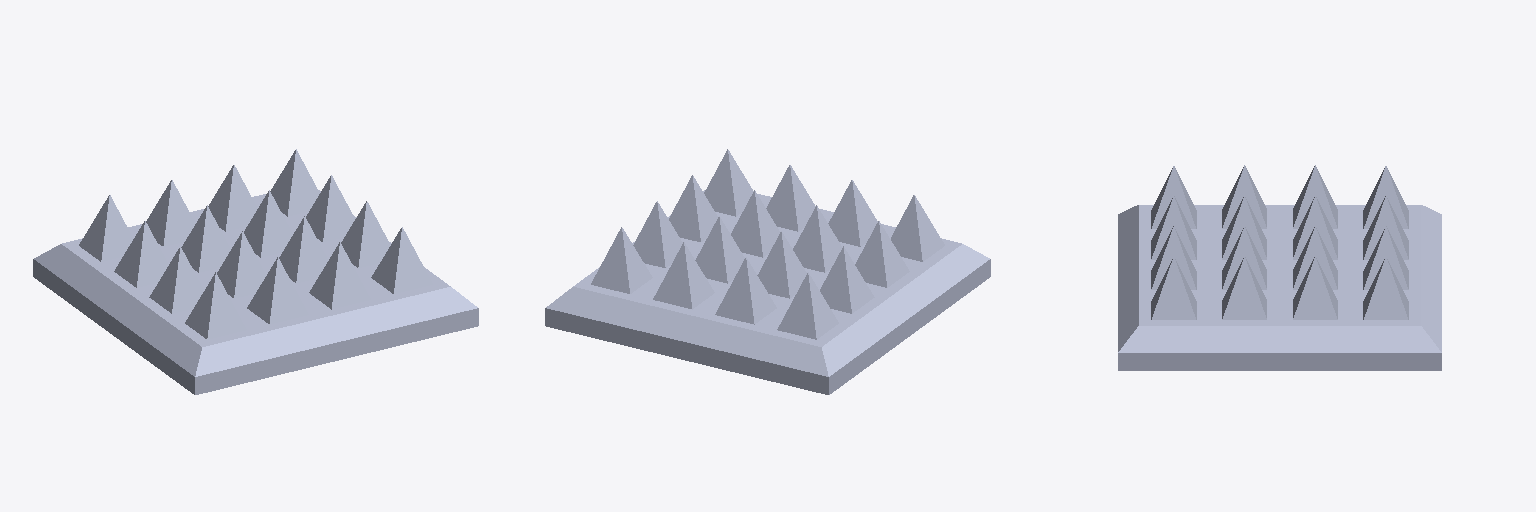
File: spikes.obj
3 renders of one model, left to right at view 1: azimuth 30°, elevation 25°; view 2: azimuth 150°, elevation 25°; view 3: azimuth 270°, elevation 25°, orthographic.
Visible parts, largest first — view 1: spikes; view 2: spikes; view 3: spikes.
Part boxes in pixels (bbox=[...]): spikes: bbox=[33, 149, 478, 394]; spikes: bbox=[545, 149, 990, 394]; spikes: bbox=[1118, 165, 1441, 370].
Size of the model in its own units: 0.81 by 0.25 by 0.8.